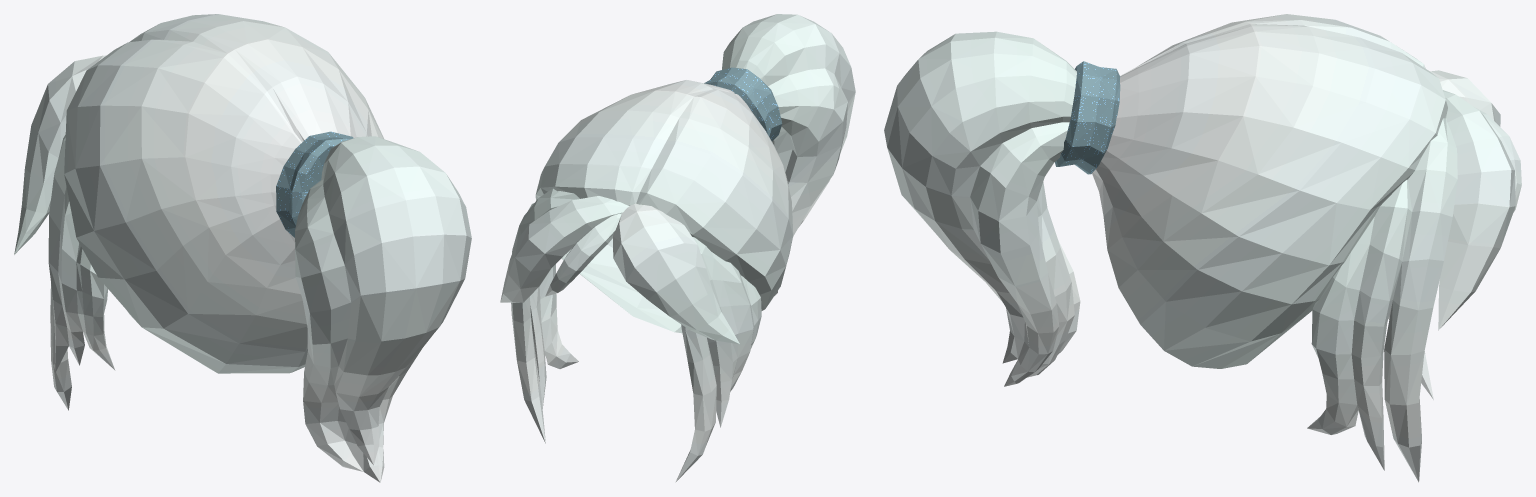
File: CharSkyKid_Hair_BraidSide.glb
3 views of the same model, side by side, from view 1: azimuth 30°, elevation 25°; view 2: azimuth 150°, elevation 25°; view 3: azimuth 270°, elevation 25° (orthographic). The views are drawn at different scales.
Visible parts, largest first — view 1: CharSkyKid_Hair_BraidSide; view 2: CharSkyKid_Hair_BraidSide; view 3: CharSkyKid_Hair_BraidSide.
Part boxes in pixels (left/top/right/bottom): CharSkyKid_Hair_BraidSide: left=14, top=14, right=471, bottom=482; CharSkyKid_Hair_BraidSide: left=500, top=14, right=855, bottom=482; CharSkyKid_Hair_BraidSide: left=884, top=14, right=1521, bottom=482.
Bounding box in the file's own units: 2.75 × 3.58 × 5.01.
Materials: 1 (1 with a texture image).
